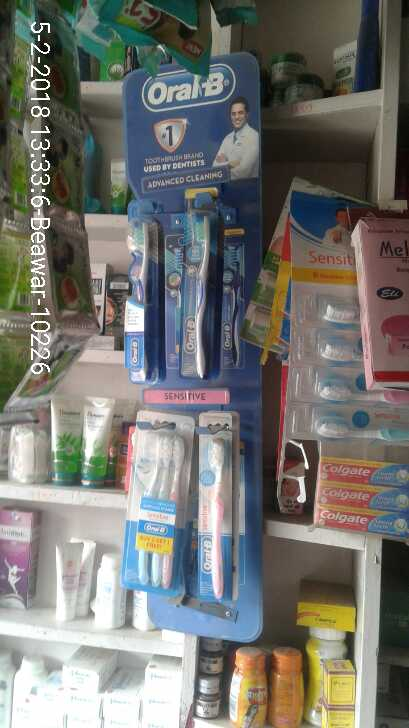oralb: (127, 412, 191, 594), (198, 412, 234, 603), (182, 188, 216, 380), (122, 208, 156, 387)
